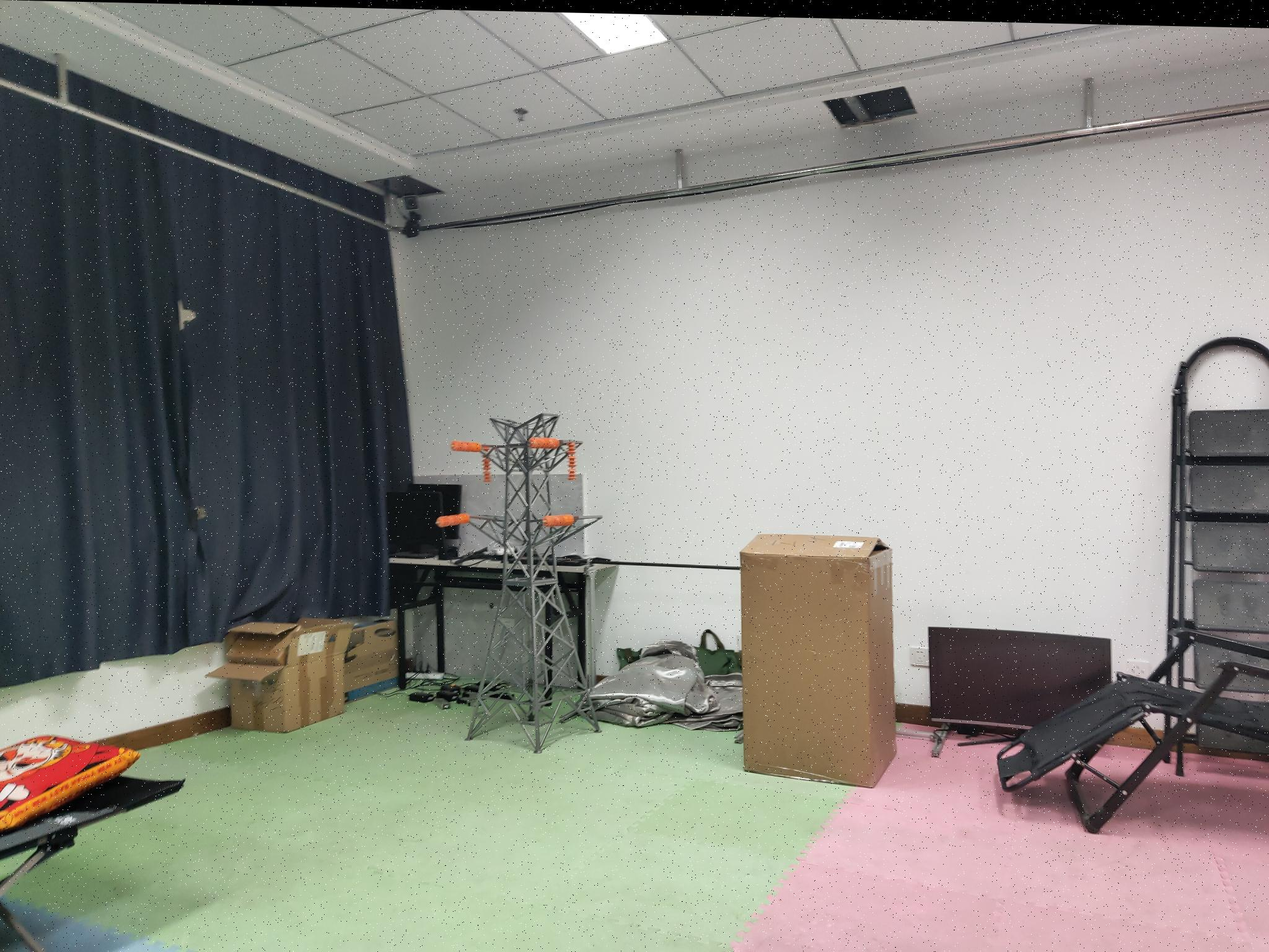tower: (466, 410, 604, 748)
